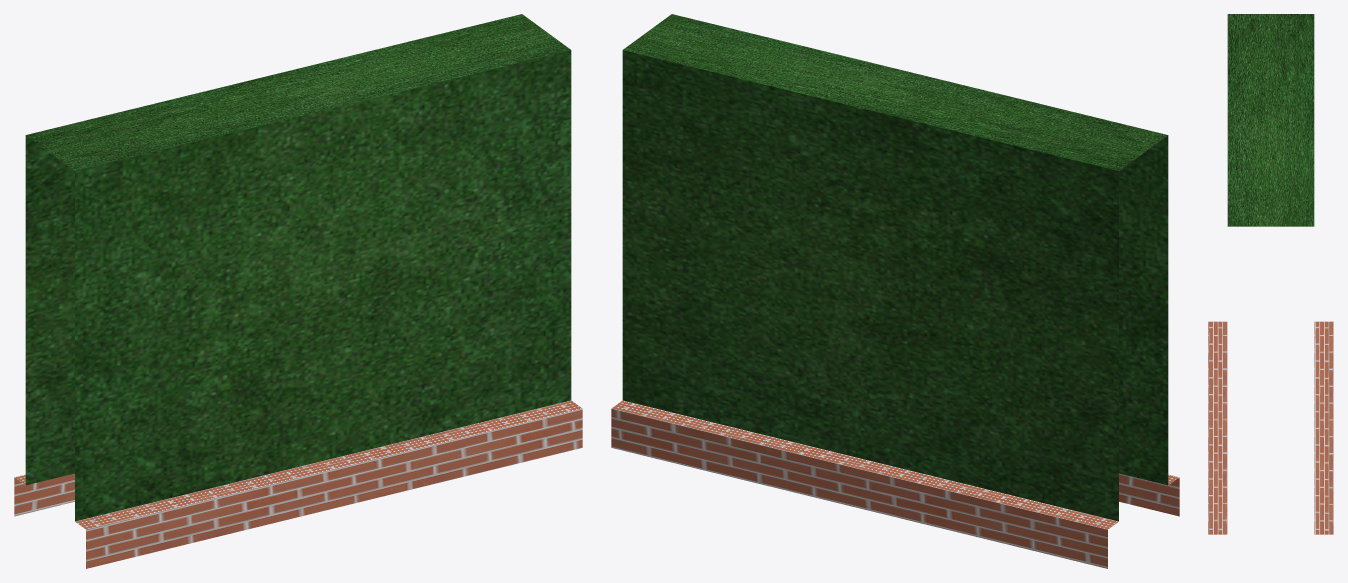
The model's file is HedgeMazeStraightFINAL.fbx.
3 views of the same model, side by side, from view 1: azimuth 30°, elevation 25°; view 2: azimuth 150°, elevation 25°; view 3: azimuth 270°, elevation 25° (orthographic). The views are drawn at different scales.
Parts seen in each view (by area): view 1: hedgemazestraight:pCube1; view 2: hedgemazestraight:pCube1; view 3: hedgemazestraight:pCube1.
Boxes of the visible parts, <box> form: hedgemazestraight:pCube1: <box>14,14,582,568</box>; hedgemazestraight:pCube1: <box>611,14,1179,568</box>; hedgemazestraight:pCube1: <box>1208,14,1333,534</box>.
Bounding box in the file's own units: 4 × 3 × 1.
